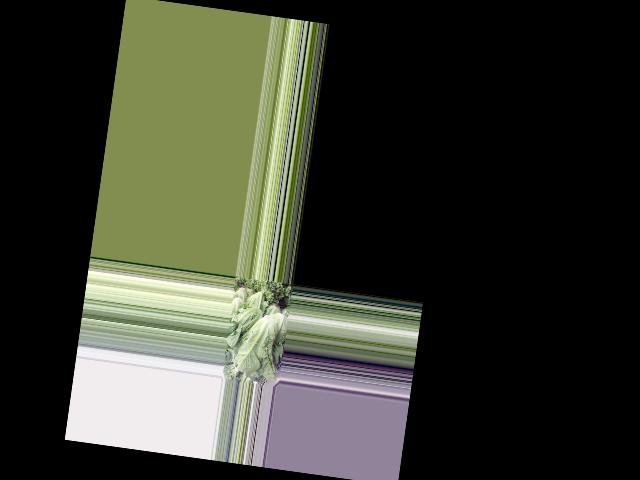lettuce: (227, 302, 262, 352)
